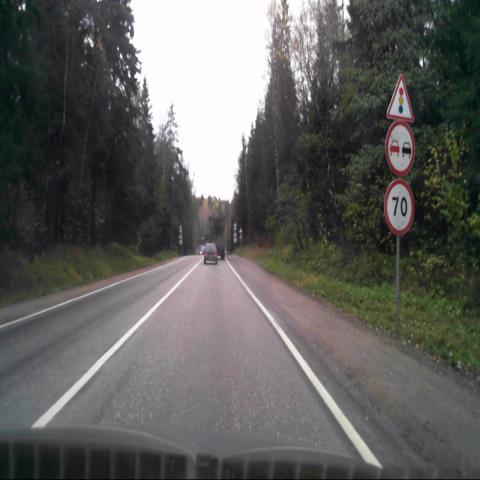1_8: (386, 75, 414, 122)
